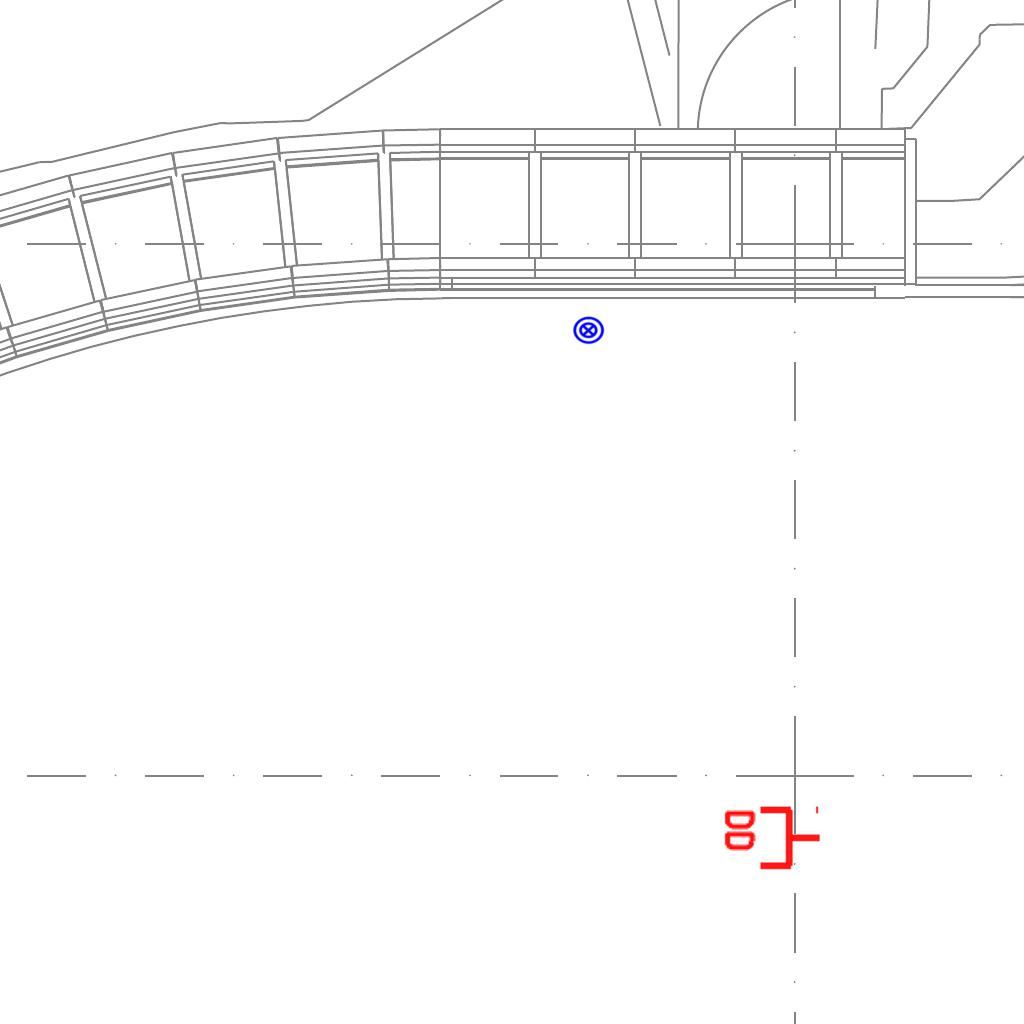Datenanschluss_zweifach: (720, 805, 823, 874)
Taster_beleuchtet: (572, 314, 605, 347)
